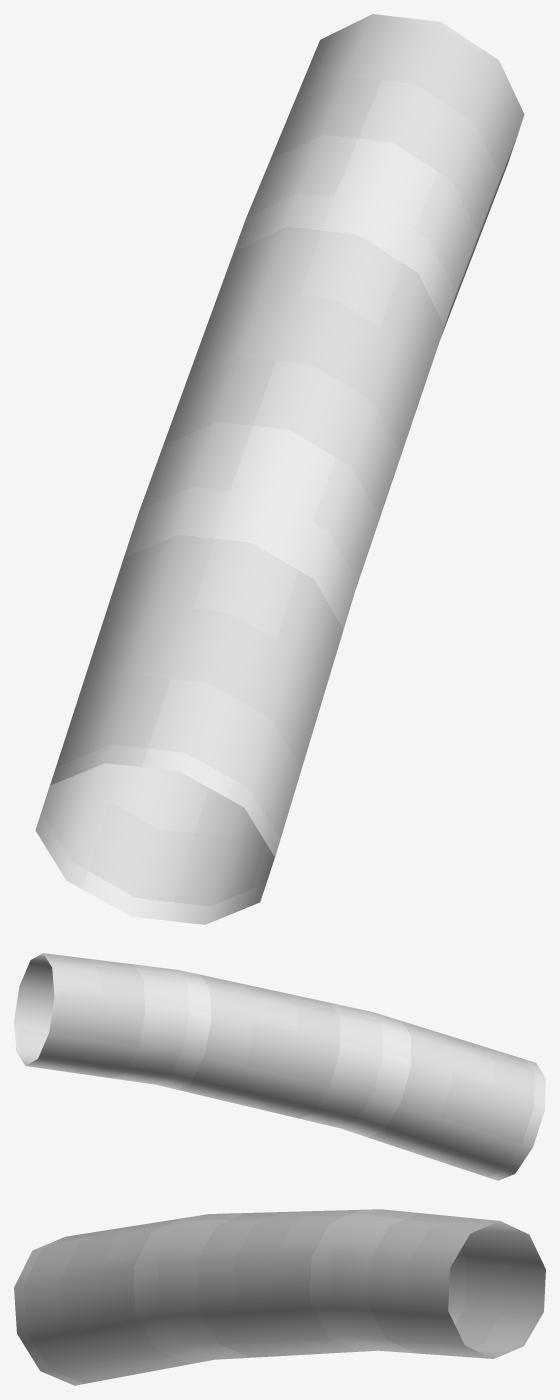
File: nycsignalarm_diagonal4_c2.obj
3 views of the same model, one above another, from view 1: azimuth 30°, elevation 25°; view 2: azimuth 150°, elevation 25°; view 3: azimuth 270°, elevation 25° (orthographic). The views are drawn at different scales.
Visible parts, largest first — view 1: nycsignalarm_diagonal4_c2; view 2: nycsignalarm_diagonal4_c2; view 3: nycsignalarm_diagonal4_c2.
Part boxes in pixels (bbox=[...]): nycsignalarm_diagonal4_c2: bbox=[35, 14, 524, 924]; nycsignalarm_diagonal4_c2: bbox=[14, 953, 545, 1180]; nycsignalarm_diagonal4_c2: bbox=[14, 1209, 545, 1385].
Bounding box in the file's own units: 1.19 × 0.7847 × 1.19.
